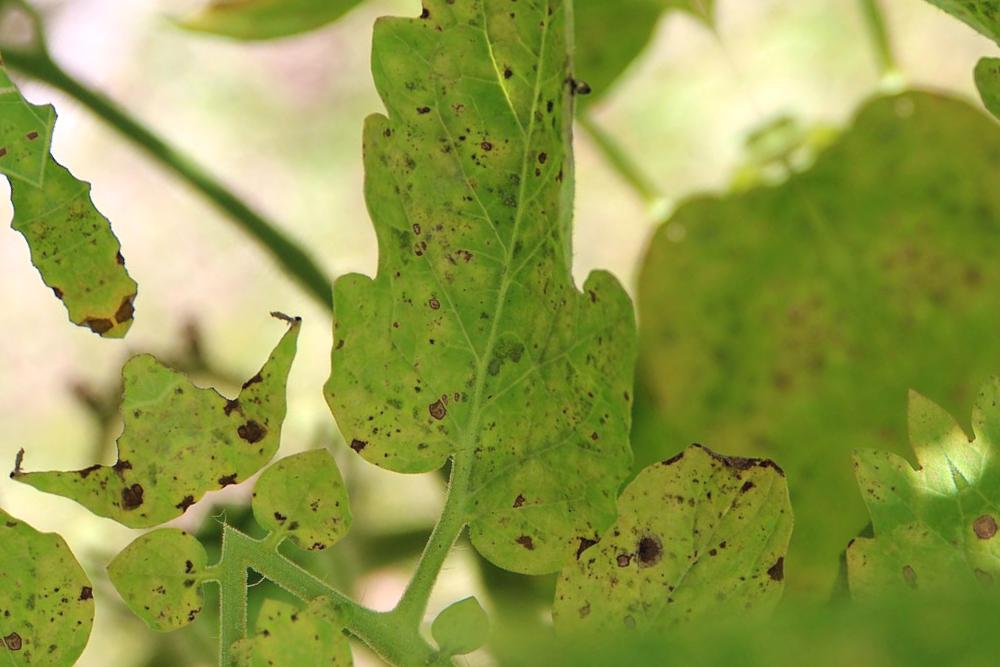Tomato Septoria leaf spot: (126, 0, 861, 626), (431, 358, 901, 667)
